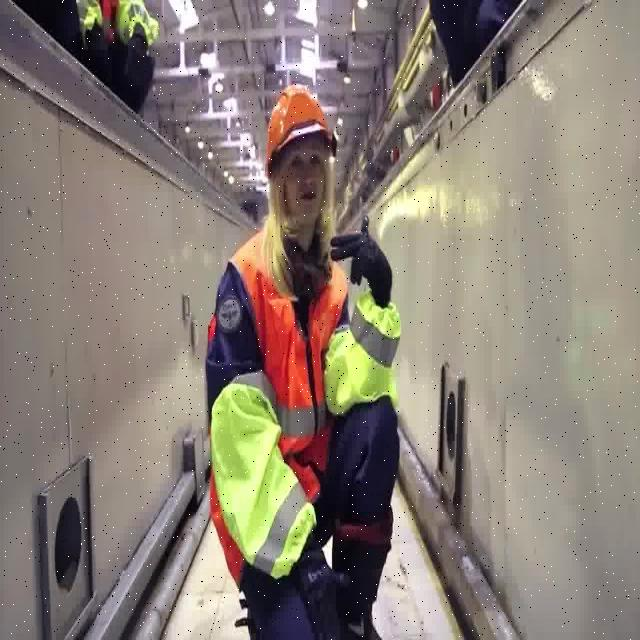Hard_hat: (263, 83, 335, 166)
